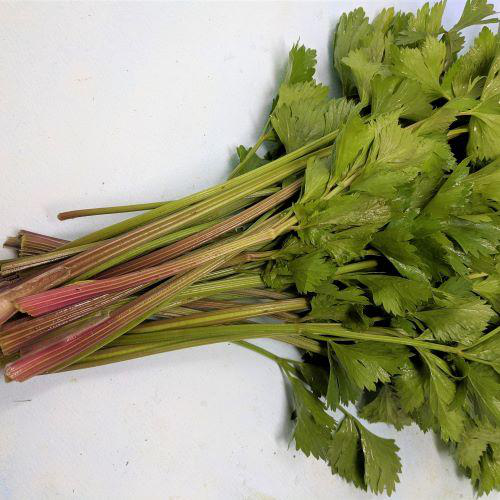Seledri: (95, 55, 500, 482)
